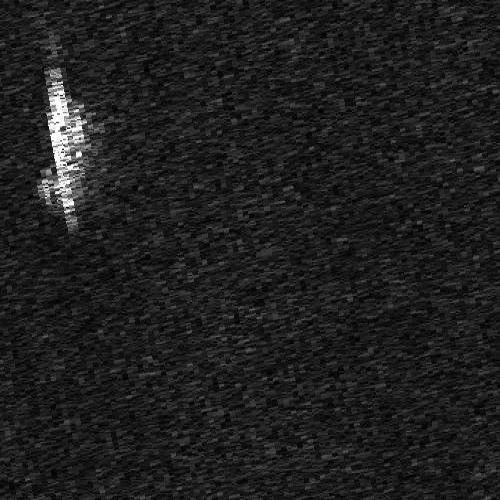ship: (38, 69, 87, 226)
